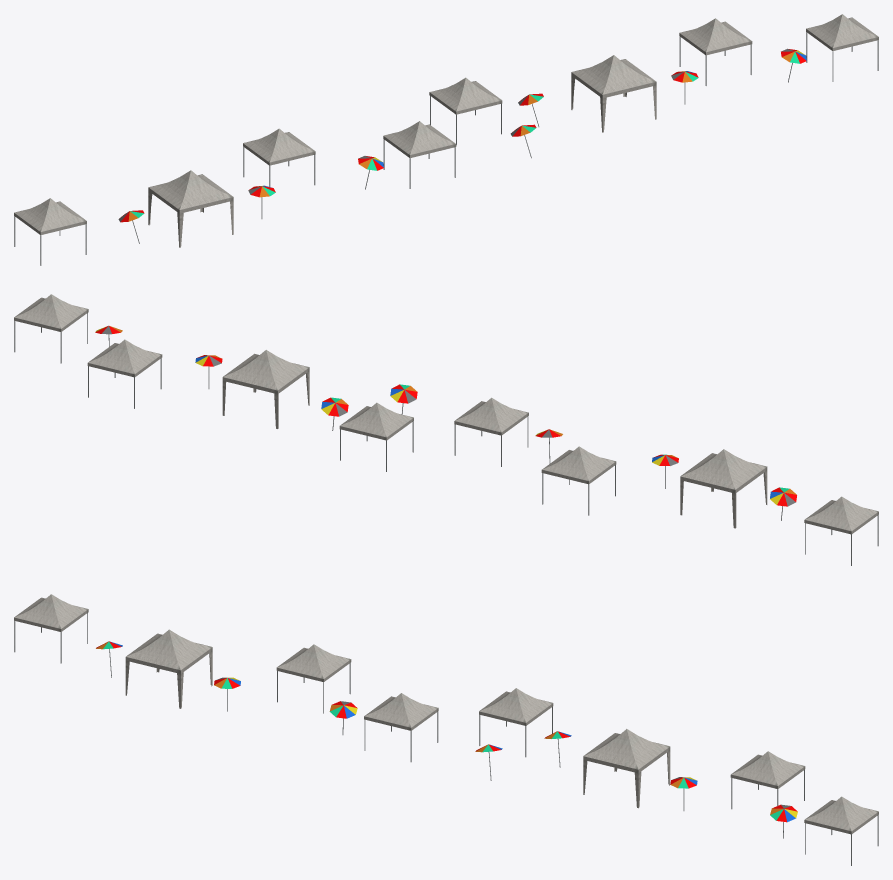
Rendered from Tents-eight.fbx.
3 renders of one model, top to bottom at view 1: azimuth 30°, elevation 25°; view 2: azimuth 150°, elevation 25°; view 3: azimuth 330°, elevation 25°, orthographic. The views are drawn at different scales.
Parts seen in each view (by area): view 1: StallUmbrellas; view 2: StallUmbrellas; view 3: StallUmbrellas.
Part boxes in pixels (x1=…): StallUmbrellas: x1=14, y1=14, x2=878, y2=265; StallUmbrellas: x1=14, y1=294, x2=878, y2=565; StallUmbrellas: x1=14, y1=594, x2=878, y2=865.
Bounding box in the file's own units: 7350 × 506 × 957.
